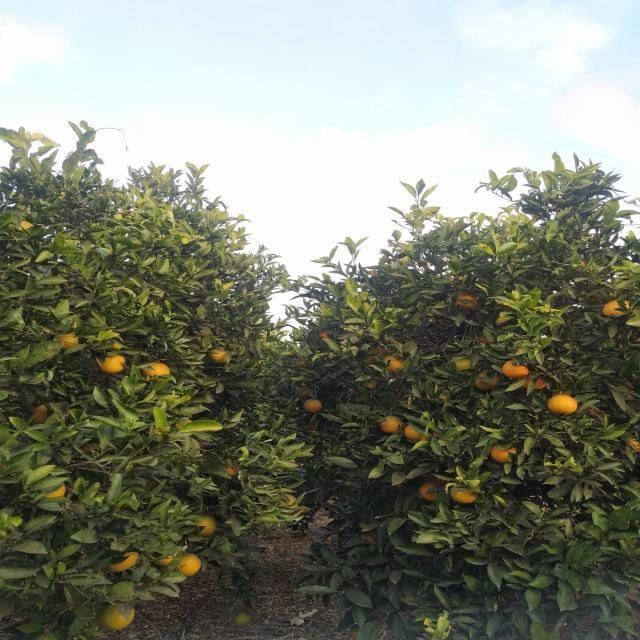Jeruk Belum Matang: (96, 604, 135, 630), (232, 612, 252, 625)
Jeruk Sudah Matang: (106, 552, 140, 572), (178, 552, 202, 578), (96, 355, 127, 373), (491, 444, 517, 464), (142, 362, 170, 380), (548, 396, 576, 414), (451, 486, 478, 504), (196, 514, 218, 536), (502, 361, 529, 378), (56, 332, 80, 351), (604, 300, 630, 317), (33, 404, 51, 426), (419, 483, 441, 501), (454, 293, 480, 308), (476, 372, 498, 389), (381, 416, 404, 432), (386, 354, 406, 372), (208, 348, 230, 364), (404, 424, 422, 441), (304, 399, 322, 412), (17, 221, 35, 231)
